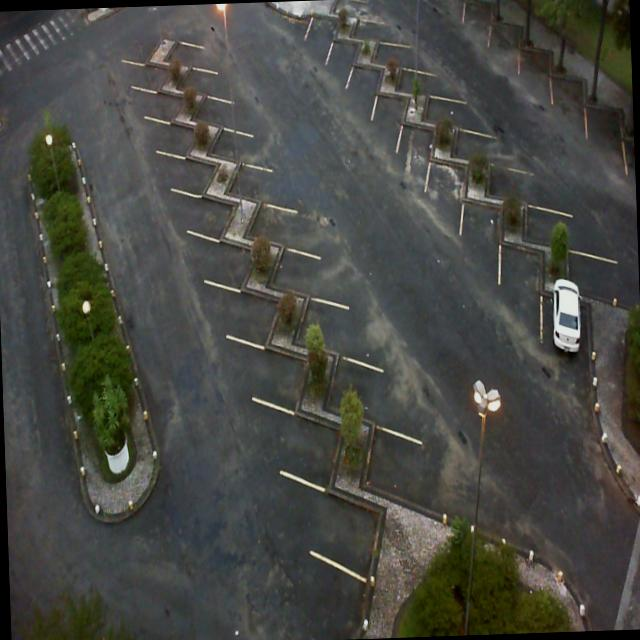car: (548, 276, 585, 358)
